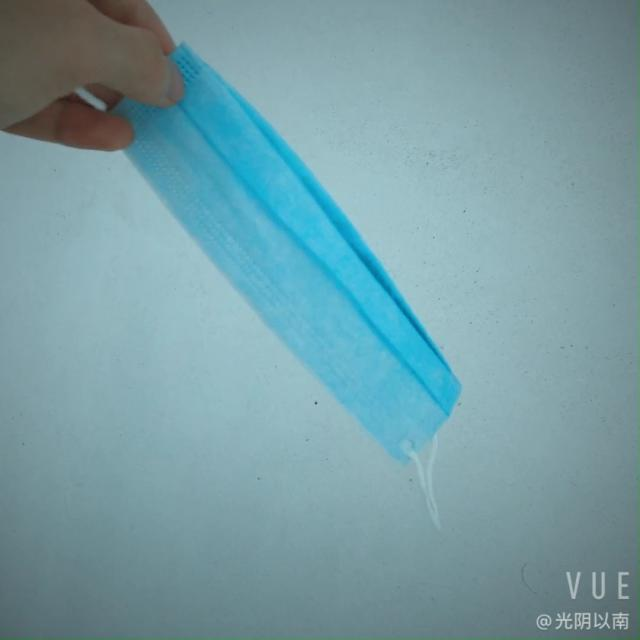face mask: (46, 49, 519, 464)
